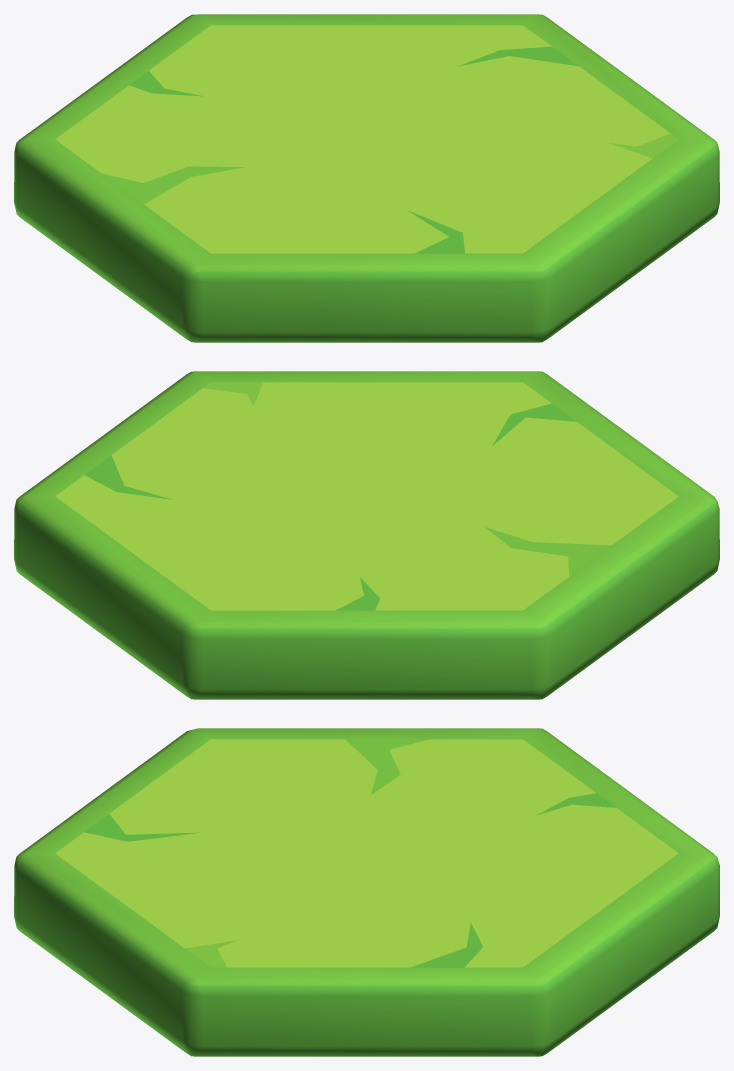
File: Platform green 2.fbx
3 views of the same model, one above another, from view 1: azimuth 30°, elevation 25°; view 2: azimuth 150°, elevation 25°; view 3: azimuth 270°, elevation 25° (orthographic).
Visible parts, largest first — view 1: Platform green 2; view 2: Platform green 2; view 3: Platform green 2.
Boxes of the visible parts, x1,y1,x2,y2 form: Platform green 2: (14,14,719,342); Platform green 2: (14,371,719,699); Platform green 2: (14,728,719,1056).
Bounding box in the file's own units: 625 × 83.5 × 715.
